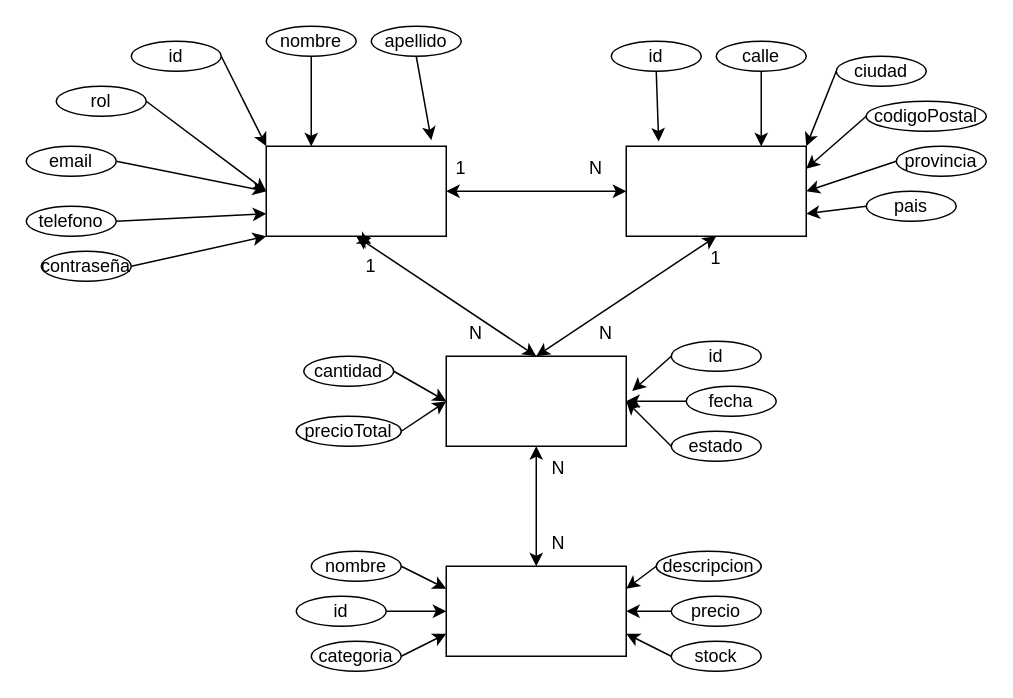
Image size: 1013x698. Some labels were removed from this diagram. The shapes that lost their labels are listed below. From the top down, each one's centre as x and y in pixels, then its label:
(355,190): Usuario
(715,190): Direccion
(535,400): Pedido
(535,610): Planta
